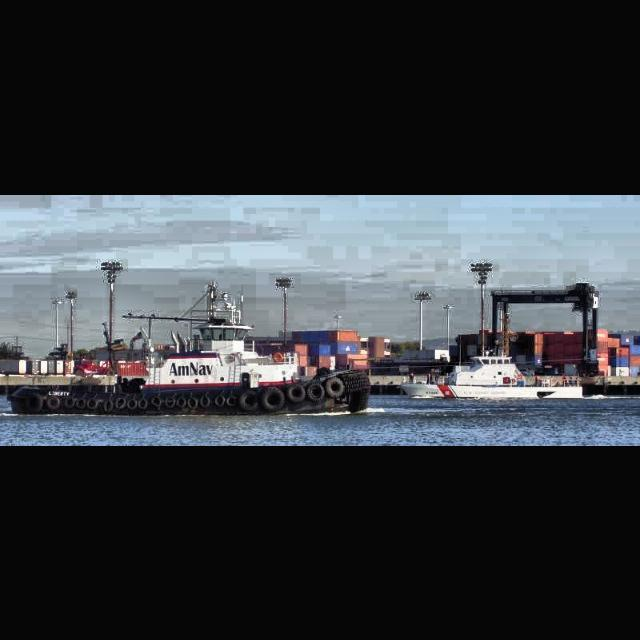patrol_vessel: (398, 339, 584, 399)
